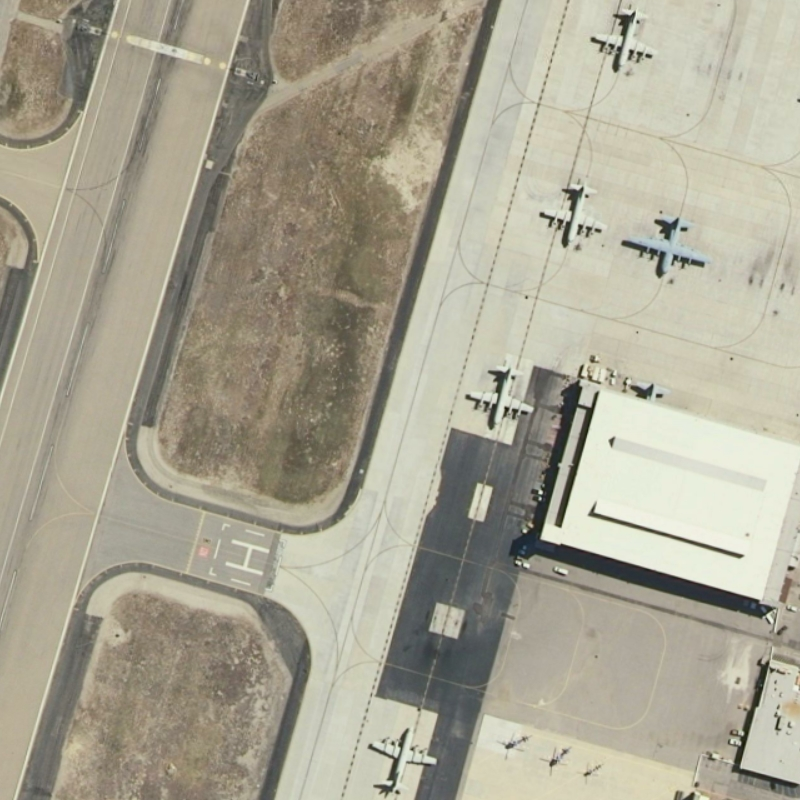A2: (622, 211, 717, 281)
A9: (536, 177, 609, 251), (365, 724, 439, 795), (588, 2, 660, 74), (467, 360, 535, 433)
